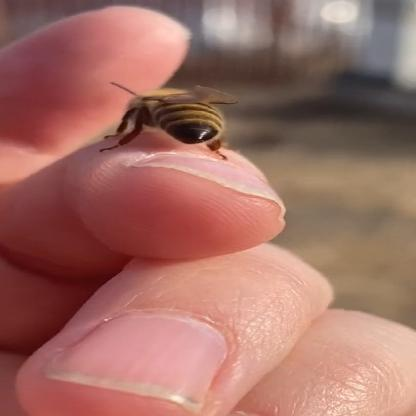bee: (75, 74, 268, 174)
